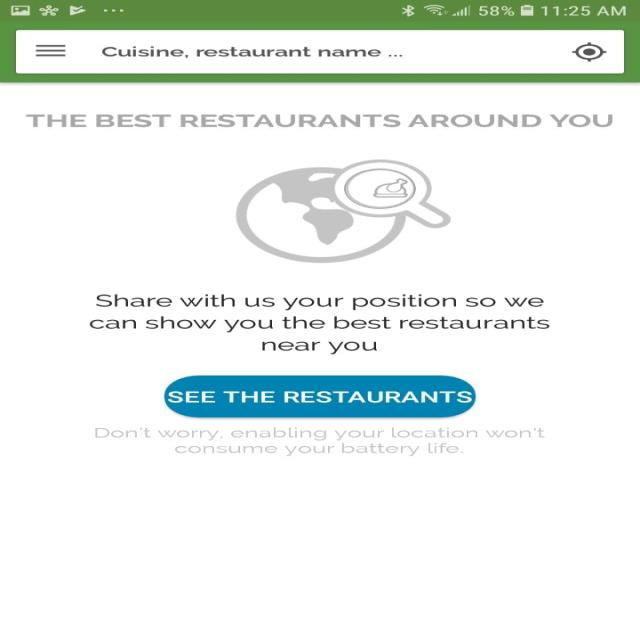EditText: (15, 30, 624, 74)
Icon: (234, 159, 450, 263), (570, 42, 606, 62), (34, 44, 66, 57)
Text: (88, 293, 550, 355), (95, 426, 545, 456), (25, 114, 612, 127), (101, 46, 402, 58)
TextButton: (164, 374, 476, 418)
